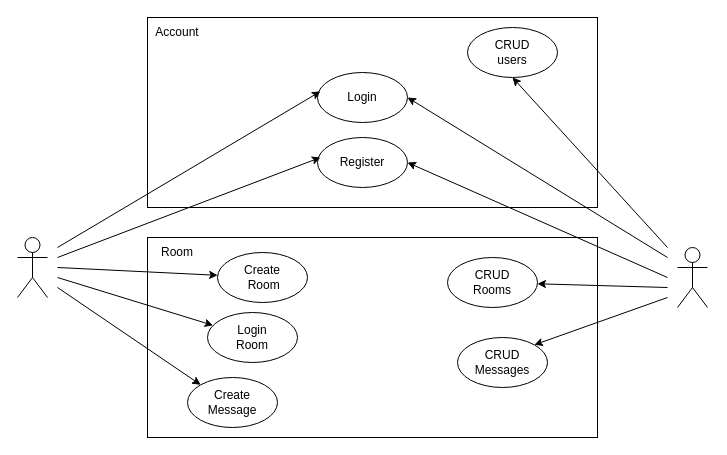
Image size: 727x455. Some labels were removed from this diagram. Here are the shapes that lost their labels. From the top down, the centre of each, then its label:
point 32,267: User
point 692,277: Admin
